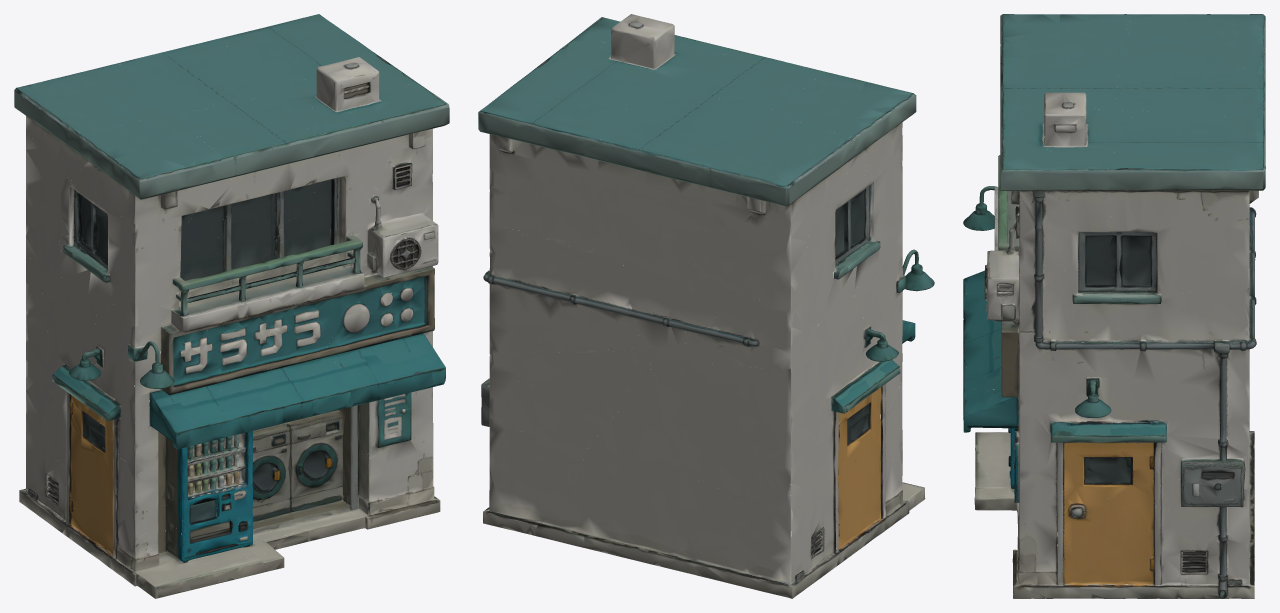
The model's file is building1v2.glb.
3 views of the same model, side by side, from view 1: azimuth 30°, elevation 25°; view 2: azimuth 150°, elevation 25°; view 3: azimuth 270°, elevation 25° (orthographic). The views are drawn at different scales.
Visible parts, largest first — view 1: tripo_node_18397e92-01be-43df-9d41-84095e5023e8; view 2: tripo_node_18397e92-01be-43df-9d41-84095e5023e8; view 3: tripo_node_18397e92-01be-43df-9d41-84095e5023e8.
Boxes of the visible parts, left/top/right/bottom form: tripo_node_18397e92-01be-43df-9d41-84095e5023e8: left=14, top=14, right=449, bottom=598; tripo_node_18397e92-01be-43df-9d41-84095e5023e8: left=478, top=14, right=934, bottom=598; tripo_node_18397e92-01be-43df-9d41-84095e5023e8: left=963, top=14, right=1265, bottom=598.
Bounding box in the file's own units: 0.8473 × 1 × 0.5922.
1 material, 1 textured.
